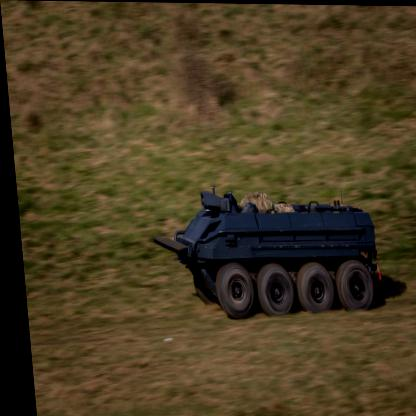UGV: (145, 183, 378, 320)
